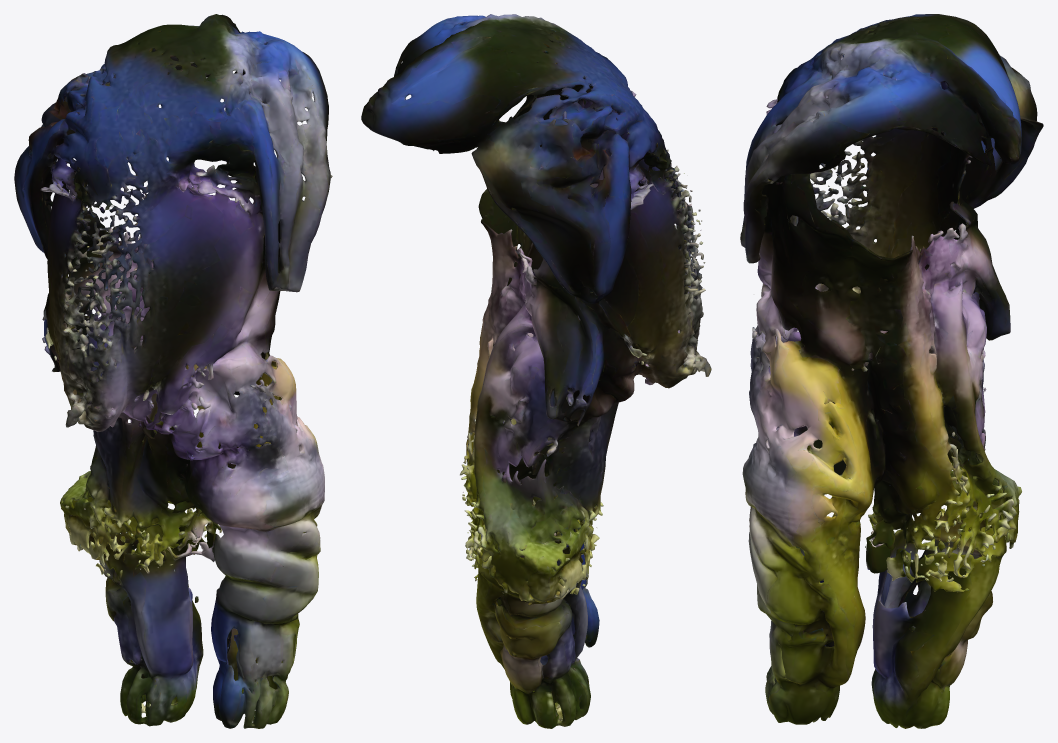
File: trellis2_1779300617351_0.glb
3 views of the same model, side by side, from view 1: azimuth 30°, elevation 25°; view 2: azimuth 150°, elevation 25°; view 3: azimuth 270°, elevation 25° (orthographic). The views are drawn at different scales.
Visible parts, largest first — view 1: world; view 2: world; view 3: world.
Boxes of the visible parts, left/top/right/bottom form: world: left=14, top=14, right=332, bottom=728; world: left=361, top=14, right=711, bottom=728; world: left=740, top=14, right=1043, bottom=728.
Bounding box in the file's own units: 0.4021 × 0.959 × 0.3702.
1 material, 1 textured.
